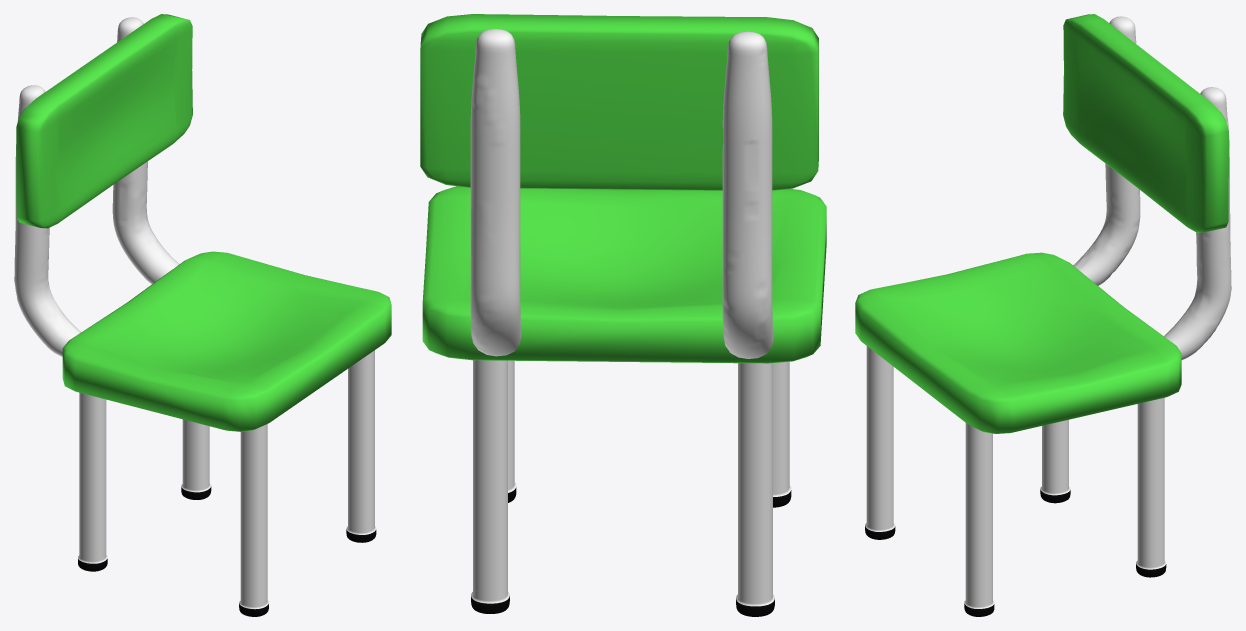
File: green_chair.glb
3 views of the same model, side by side, from view 1: azimuth 30°, elevation 25°; view 2: azimuth 150°, elevation 25°; view 3: azimuth 270°, elevation 25° (orthographic). The views are drawn at different scales.
Parts seen in each view (by area): view 1: Cube.016_Material_0, Cube.017_Material_0, Plane.012_metal_0, Plane.017_metal_0, Plane.016_metal_0, Plane.014_metal_0, Plane.013_metal_0, Plane.015_metal_0; view 2: Cube.017_Material_0, Cube.016_Material_0, Plane.013_metal_0, Plane.012_metal_0, Plane.015_metal_0, Plane.014_metal_0, Plane.017_metal_0, Plane.016_metal_0; view 3: Cube.016_Material_0, Cube.017_Material_0, Plane.013_metal_0, Plane.016_metal_0, Plane.017_metal_0, Plane.015_metal_0, Plane.012_metal_0, Plane.014_metal_0.
Part boxes in pixels (x1,y1,x2,y2): Cube.016_Material_0: (62, 251, 391, 431); Cube.017_Material_0: (16, 14, 192, 228); Plane.012_metal_0: (14, 85, 81, 356); Plane.017_metal_0: (239, 424, 268, 609); Plane.016_metal_0: (346, 350, 376, 534); Plane.014_metal_0: (78, 392, 107, 563); Plane.013_metal_0: (112, 17, 179, 283); Plane.015_metal_0: (181, 419, 211, 492); Cube.017_Material_0: (420, 14, 818, 190); Cube.016_Material_0: (422, 186, 826, 363); Plane.013_metal_0: (470, 29, 521, 356); Plane.012_metal_0: (722, 31, 773, 358); Plane.015_metal_0: (471, 360, 509, 603); Plane.014_metal_0: (736, 363, 774, 606); Plane.017_metal_0: (773, 361, 791, 496); Plane.016_metal_0: (508, 360, 516, 492); Cube.016_Material_0: (855, 252, 1181, 433); Cube.017_Material_0: (1063, 14, 1228, 232); Plane.013_metal_0: (1164, 87, 1231, 359); Plane.016_metal_0: (964, 423, 994, 608); Plane.017_metal_0: (865, 346, 894, 531); Plane.015_metal_0: (1136, 397, 1165, 569); Plane.012_metal_0: (1073, 16, 1140, 285); Plane.014_metal_0: (1040, 419, 1070, 495).
Bounding box in the file's own units: 2.31 × 3.1 × 2.26.
